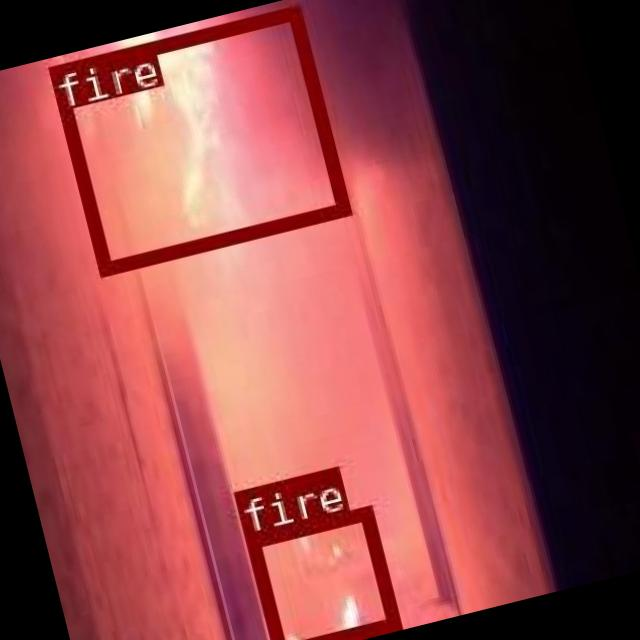fire: (45, 2, 347, 274), (243, 505, 396, 640)
